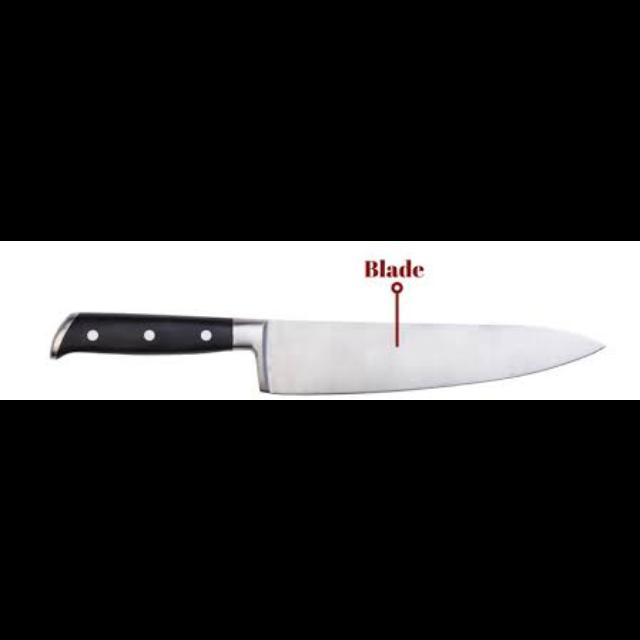knife: (49, 310, 606, 392)
